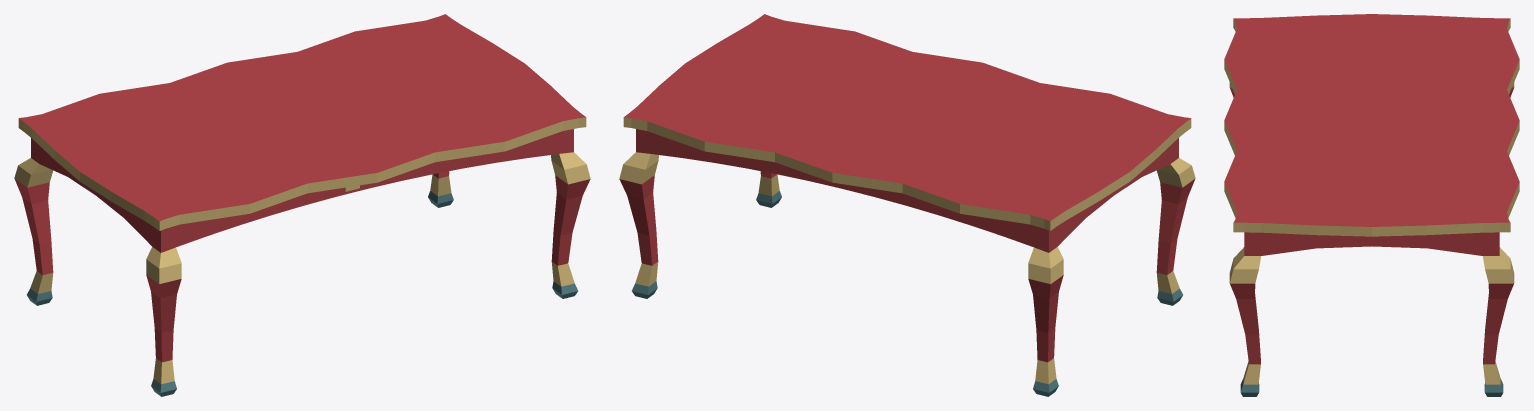
Rendered from mesadecentro.fbx.
3 views of the same model, side by side, from view 1: azimuth 30°, elevation 25°; view 2: azimuth 150°, elevation 25°; view 3: azimuth 270°, elevation 25° (orthographic).
Visible parts, largest first — view 1: mesa_centro_roja; view 2: mesa_centro_roja; view 3: mesa_centro_roja.
Boxes of the visible parts, x1,y1,x2,y2 form: mesa_centro_roja: (14, 14, 590, 396); mesa_centro_roja: (619, 14, 1195, 396); mesa_centro_roja: (1224, 14, 1519, 396).
Bounding box in the file's own units: 118 × 46 × 69.4.
